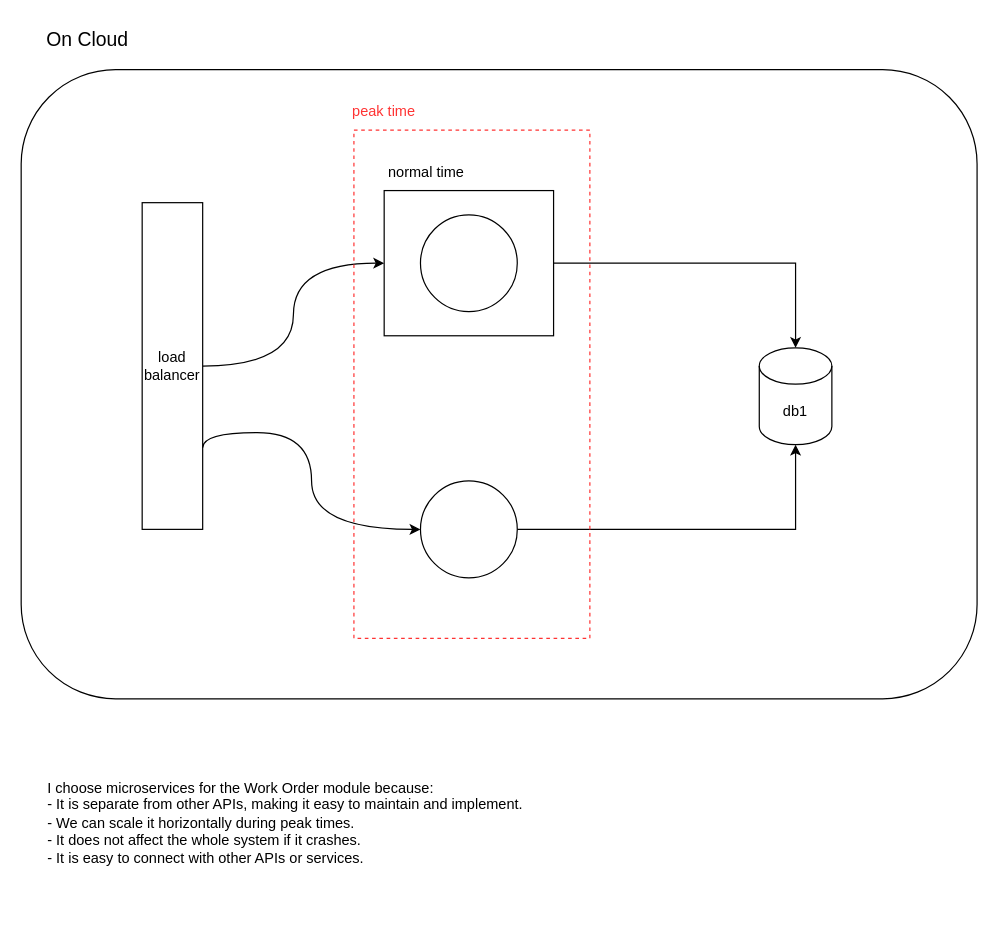
Image size: 998x937. Some labels were removed from this diagram. The shapes that lost their labels are listed below. From the top down, each one's centre as x and y in pixels, then its label:
At [468,263]: "micro 1".
At [468,529]: "micro 2".
